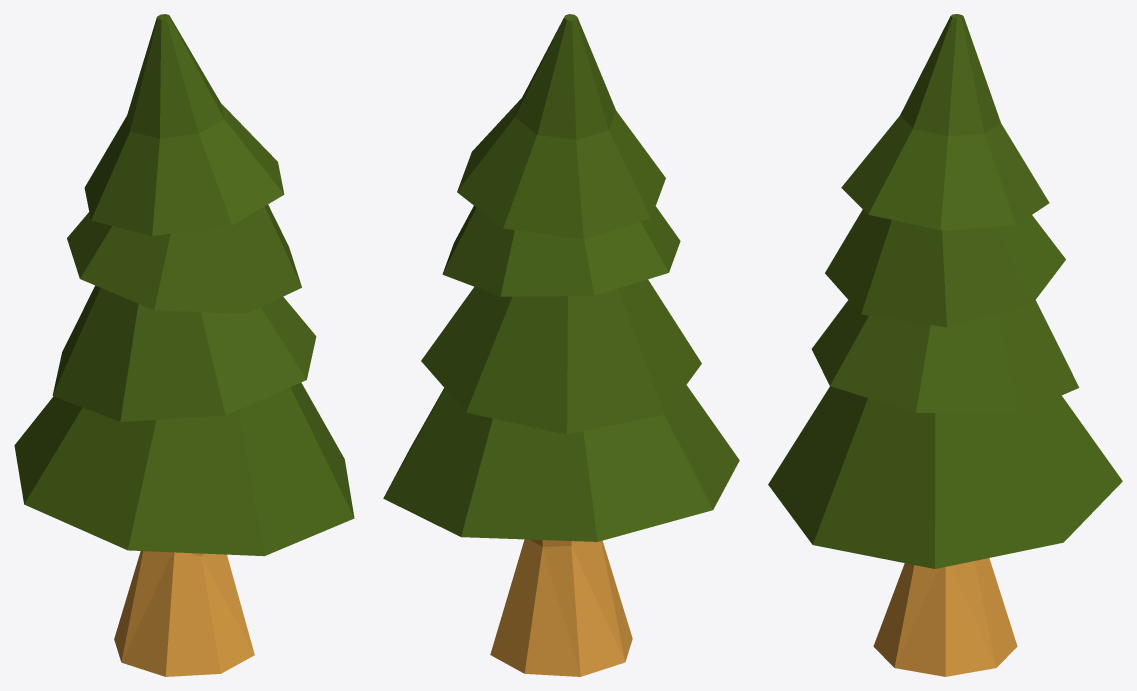
The model's file is object_landscape_tree_deciduous_adult.glb.
3 renders of one model, left to right at view 1: azimuth 30°, elevation 25°; view 2: azimuth 150°, elevation 25°; view 3: azimuth 270°, elevation 25°, orthographic. The views are drawn at different scales.
Visible parts, largest first — view 1: object_landscape_tree_deciduous_adult; view 2: object_landscape_tree_deciduous_adult; view 3: object_landscape_tree_deciduous_adult.
Part boxes in pixels (box(x1,y1,x2,y2)): object_landscape_tree_deciduous_adult: box(14, 14, 354, 676); object_landscape_tree_deciduous_adult: box(383, 14, 739, 676); object_landscape_tree_deciduous_adult: box(768, 14, 1122, 676).
Bounding box in the file's own units: 0.4481 × 0.8702 × 0.4488.
